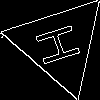H: (34, 19, 91, 68)
